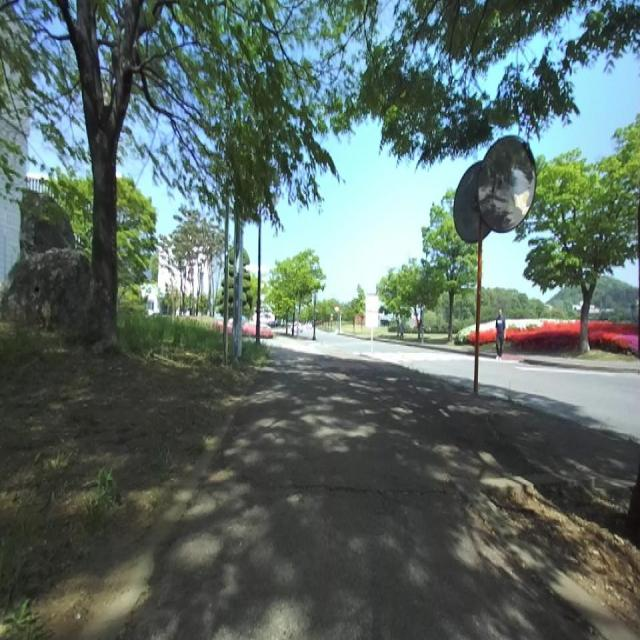sidewalk: (120, 346, 639, 640)
